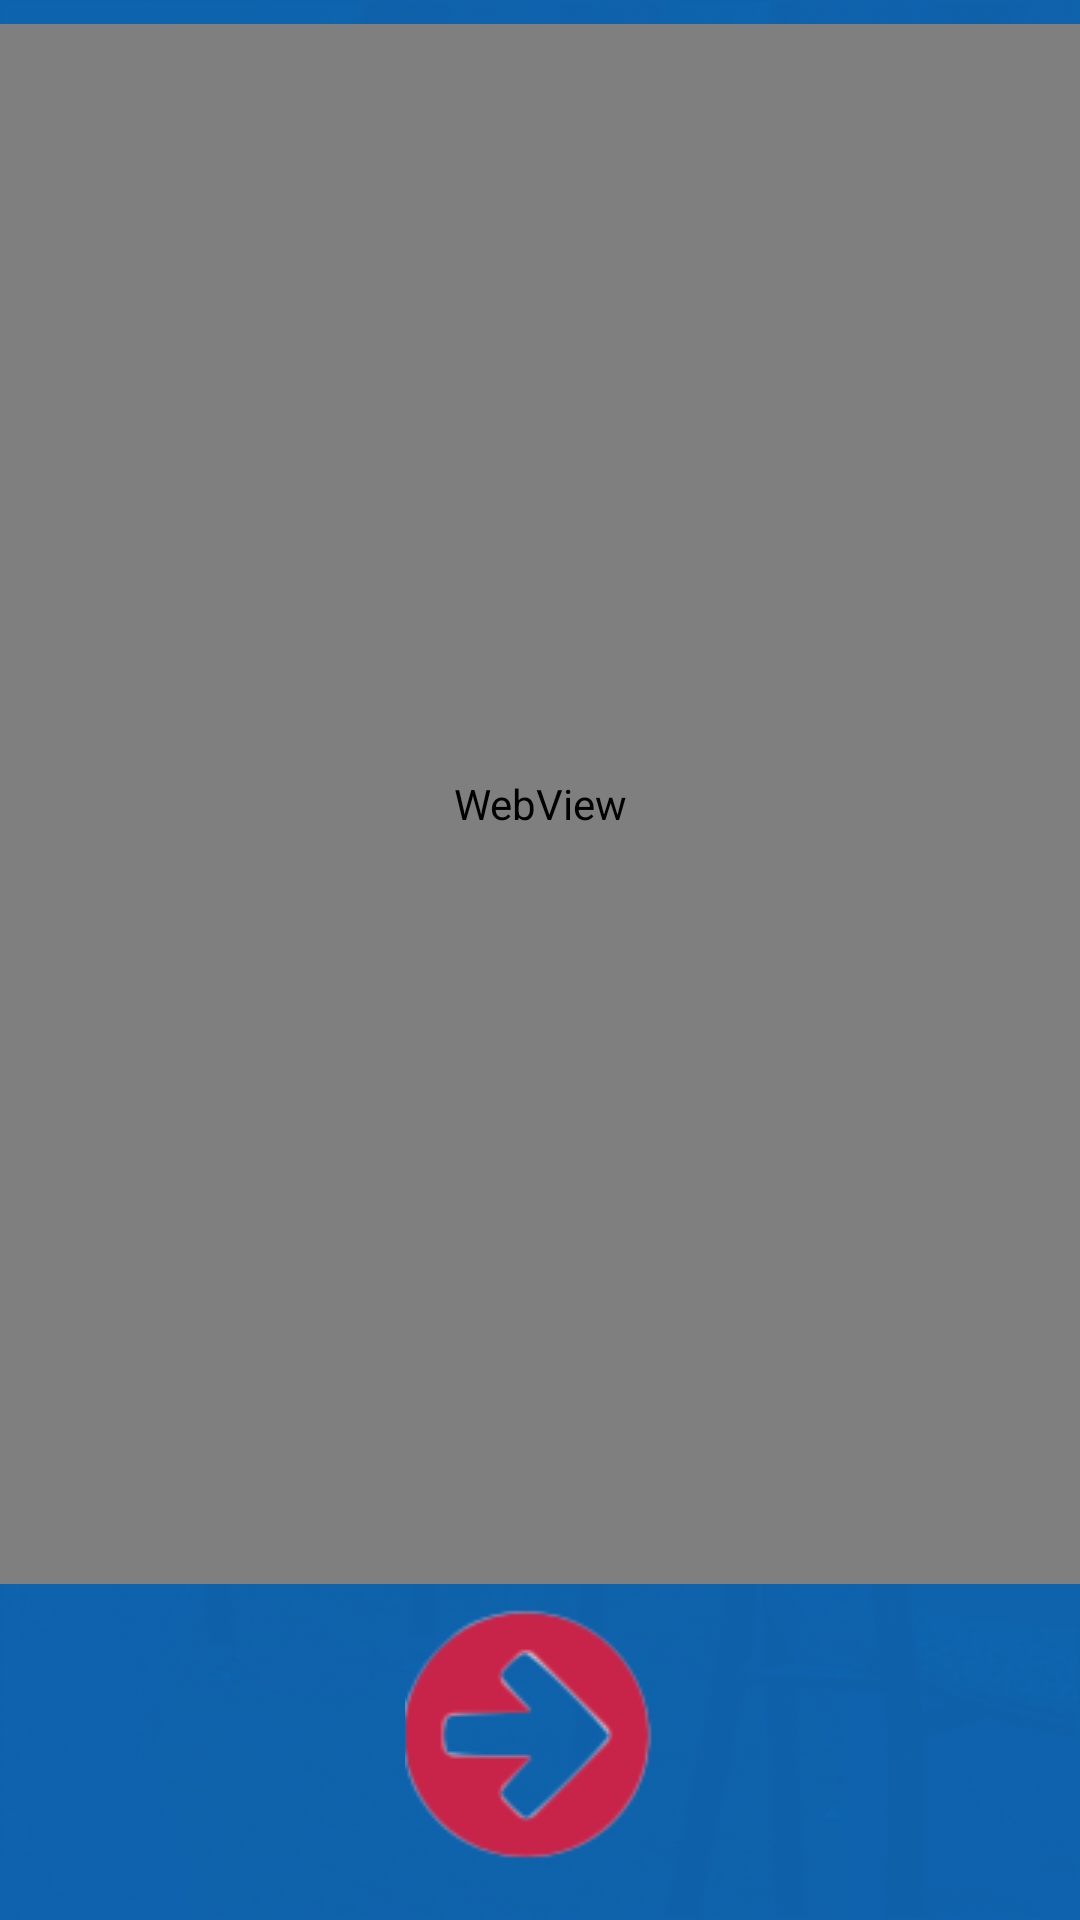

Point at icon controls on the screen. Image size 1080px×1920px, points as (x,y).
next: (528,1734)
